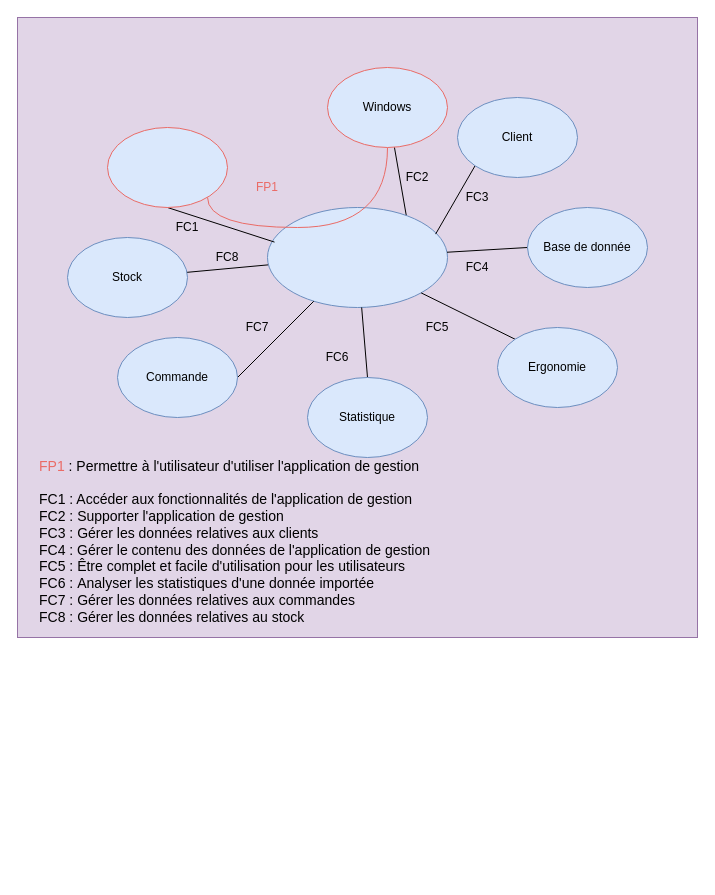
Image size: 715x895. Some labels were removed from this diagram. Here are the shapes that lost their labels. From the top down, the centre of each, then its label:
At [167,167]: "Utilisateur".
At [357,257]: "Application de gestion".
